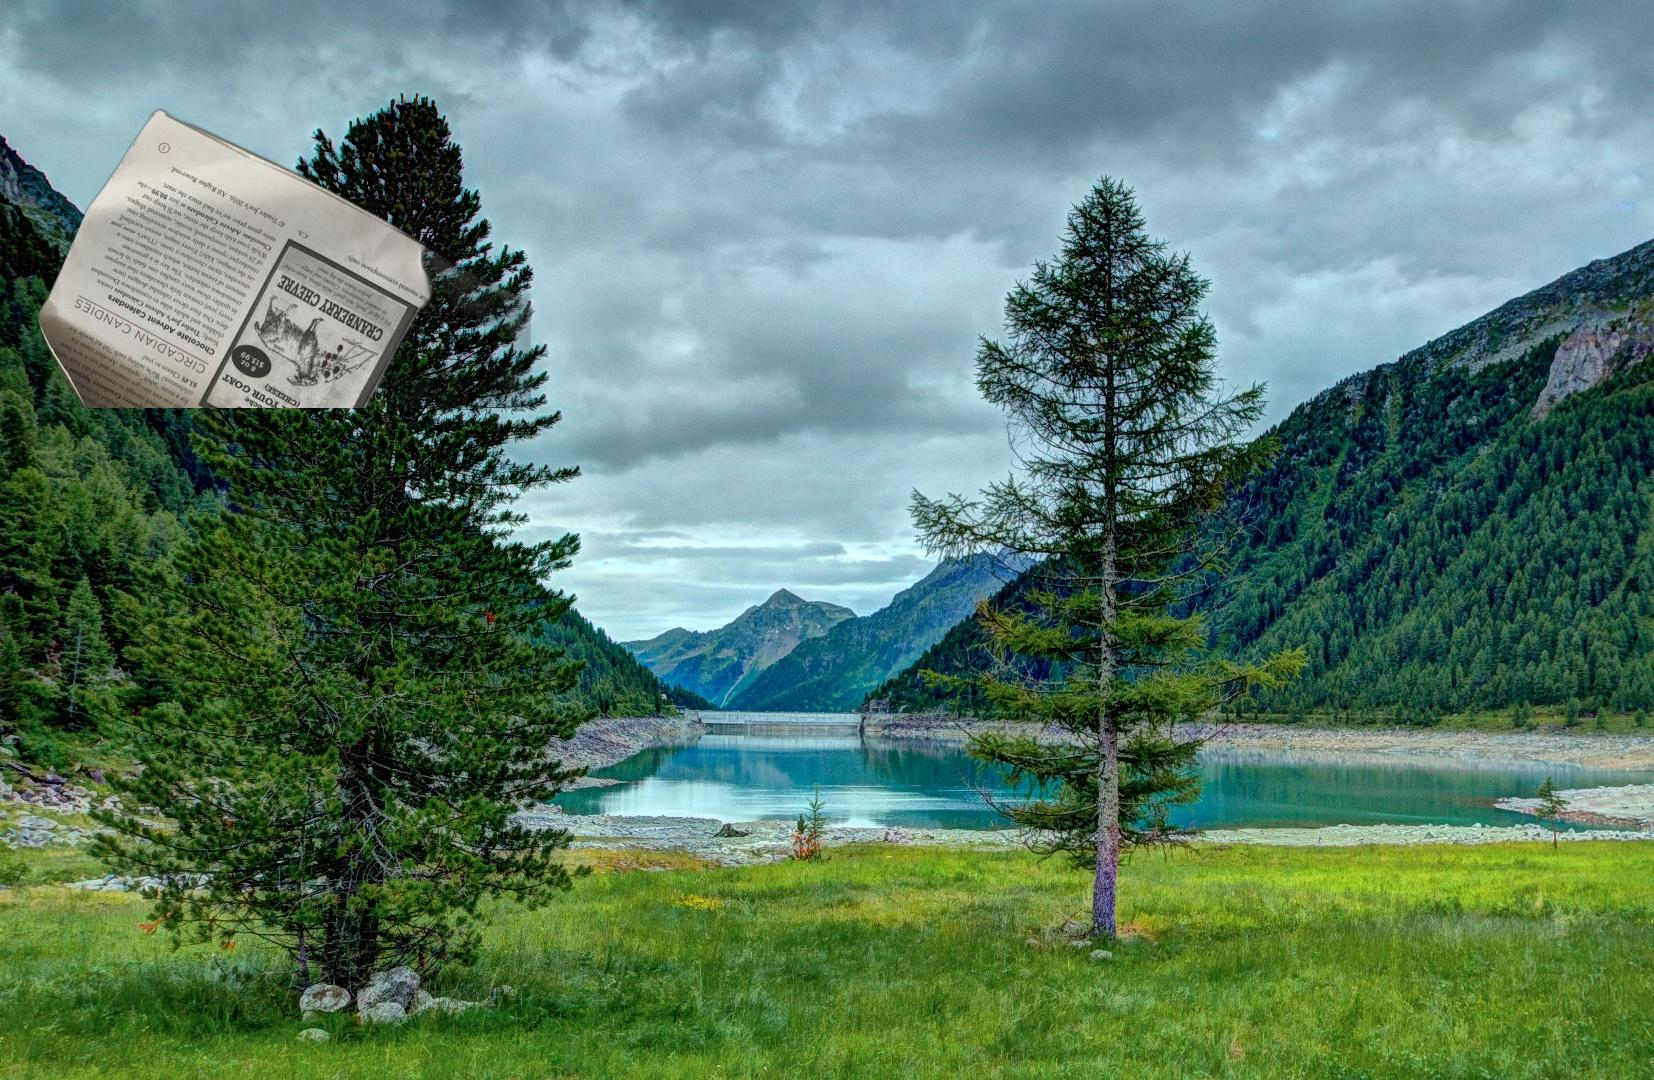paper: (33, 107, 530, 407)
